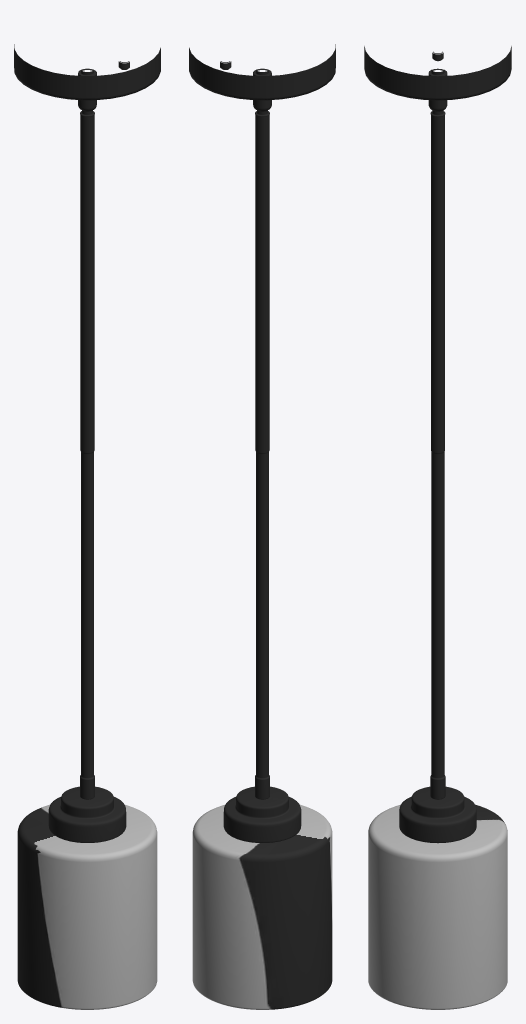
The model's file is abo-B071NZ281W.glb.
3 renders of one model, left to right at view 1: azimuth 30°, elevation 25°; view 2: azimuth 150°, elevation 25°; view 3: azimuth 270°, elevation 25°, orthographic.
Bounding box in the file's own units: 0.123 × 0.863 × 0.123.
1 material, 1 textured.
